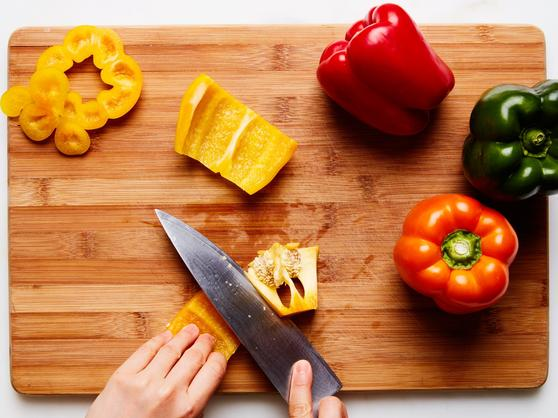pepper: (301, 1, 456, 142), (384, 191, 520, 311)
